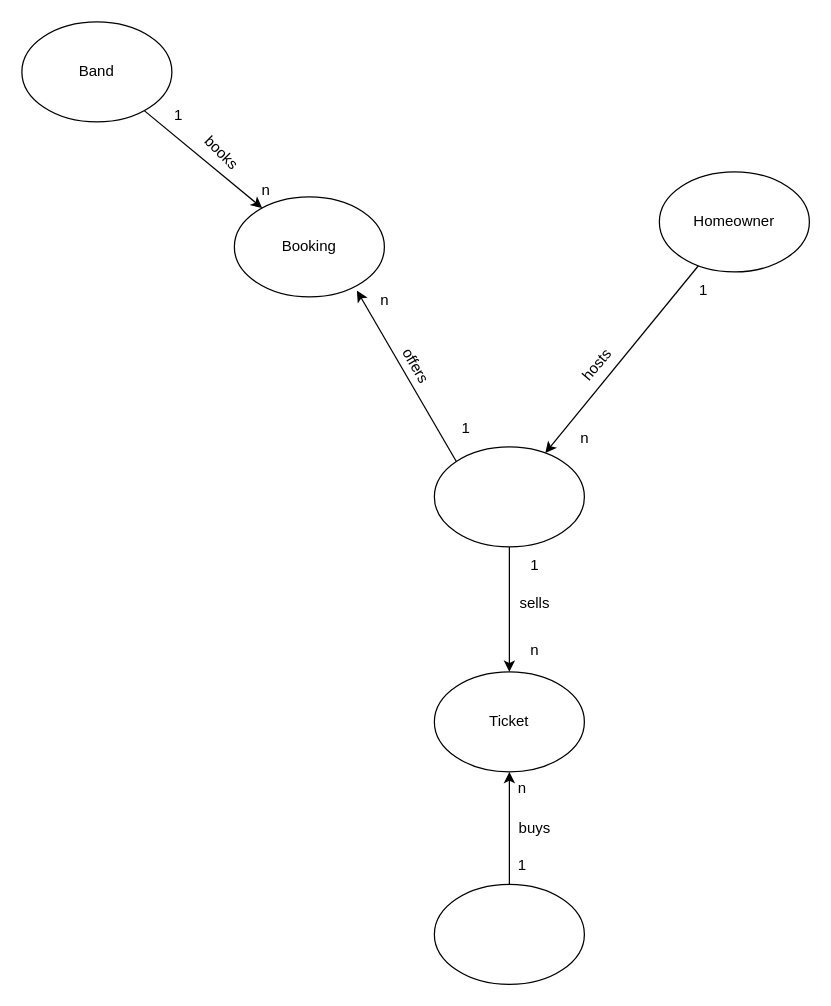
Some shapes in this 831 by 1006 pixel diagram are drawn without their labels. Here are the shapes that lost their labels. From the top down, the centre of each, then its label:
At (x=508, y=496): "Show".
At (x=508, y=933): "Fan".
